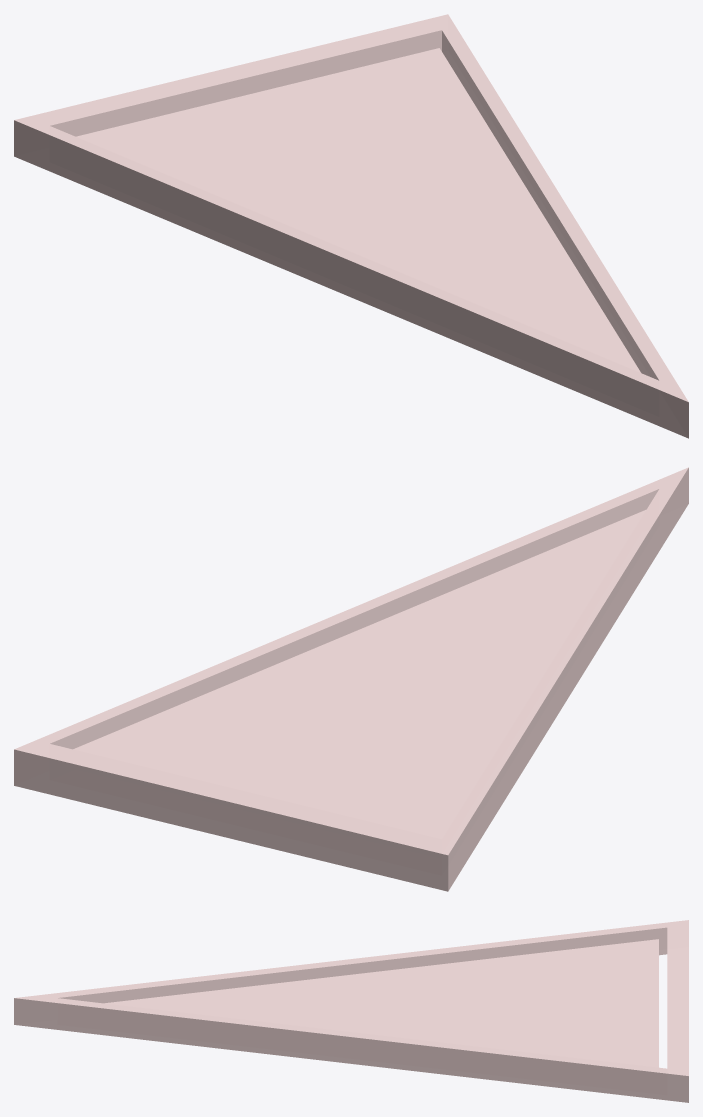
Rendered from tile-large-yellow.glb.
3 views of the same model, one above another, from view 1: azimuth 30°, elevation 25°; view 2: azimuth 150°, elevation 25°; view 3: azimuth 270°, elevation 25° (orthographic). The views are drawn at different scales.
Parts seen in each view (by area): view 1: tile; view 2: tile; view 3: tile.
Part boxes in pixels (x1,y1,x2,y2): tile: (14,14,688,438); tile: (14,467,688,891); tile: (14,920,688,1102).
Size of the model in its own units: 1 by 0.08 by 1.83.
